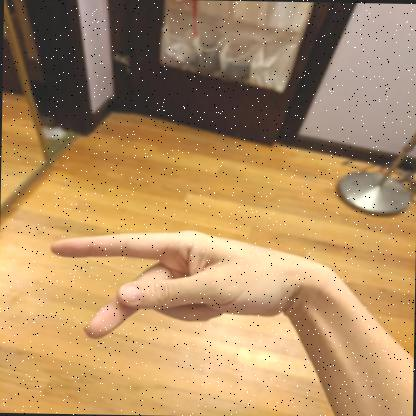P: (50, 230, 287, 338)
